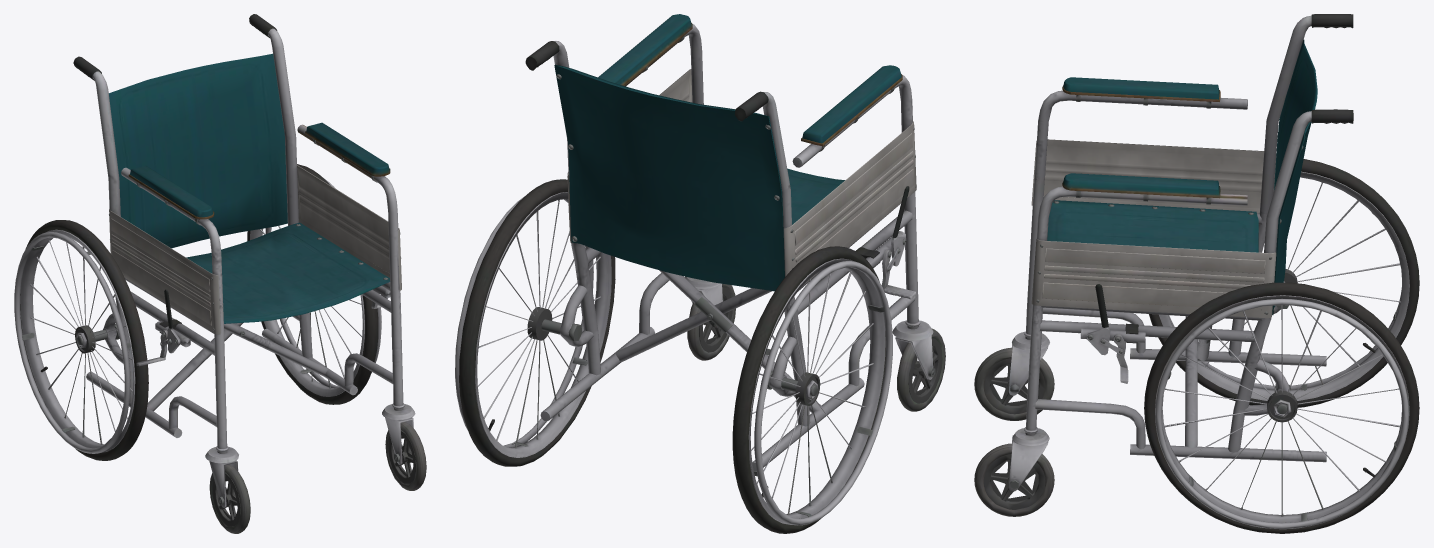
The model's file is wheelchair.glb.
3 renders of one model, left to right at view 1: azimuth 30°, elevation 25°; view 2: azimuth 150°, elevation 25°; view 3: azimuth 270°, elevation 25°, orthographic. The views are drawn at different scales.
Parts seen in each view (by area): view 1: wheelchair_01; view 2: wheelchair_01; view 3: wheelchair_01.
Part boxes in pixels (x1=…): wheelchair_01: x1=14, y1=14, x2=426, y2=533; wheelchair_01: x1=455, y1=14, x2=945, y2=533; wheelchair_01: x1=974, y1=14, x2=1419, y2=533.
Size of the model in its own units: 0.824 by 1.1 by 1.09.
Materials: 1 (1 with a texture image).
